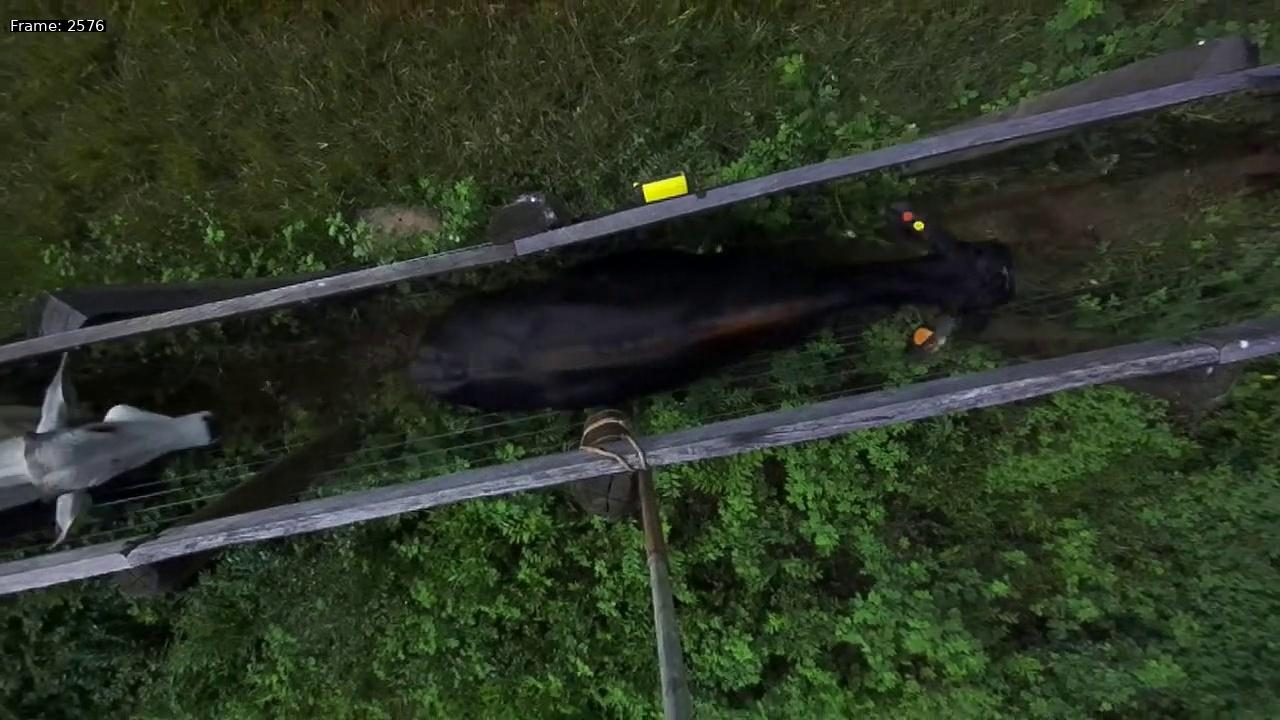cattle: (389, 177, 1030, 410)
